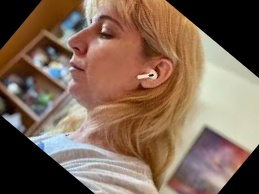earphone: (133, 50, 178, 97)
